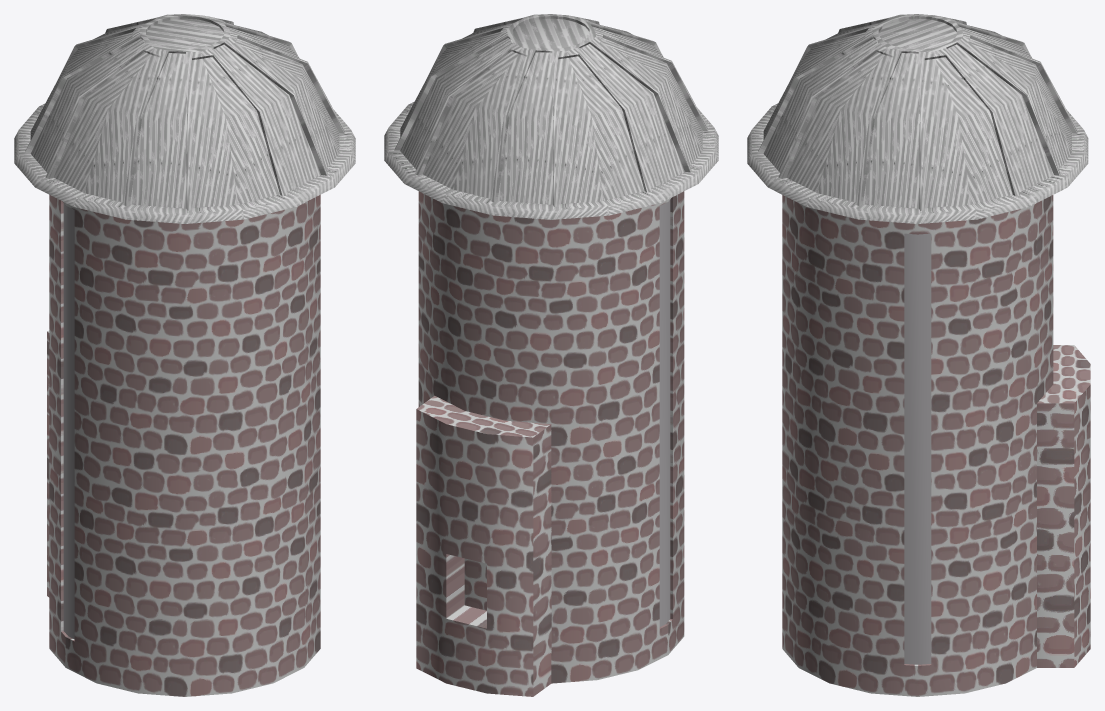
Rendered from SiloHandHeld.fbx.
The picture shows the model from 3 angles, left to right: view 1: azimuth 30°, elevation 25°; view 2: azimuth 150°, elevation 25°; view 3: azimuth 270°, elevation 25°; orthographic projection. The views are drawn at different scales.
Visible parts, largest first — view 1: WaterTank (1); view 2: WaterTank (1); view 3: WaterTank (1).
Part boxes in pixels (x1,y1,x2,y2): WaterTank (1): [14, 14, 355, 696]; WaterTank (1): [384, 14, 718, 696]; WaterTank (1): [747, 14, 1090, 696].
Bounding box in the file's own units: 0.6772 × 1.31 × 0.6715.
